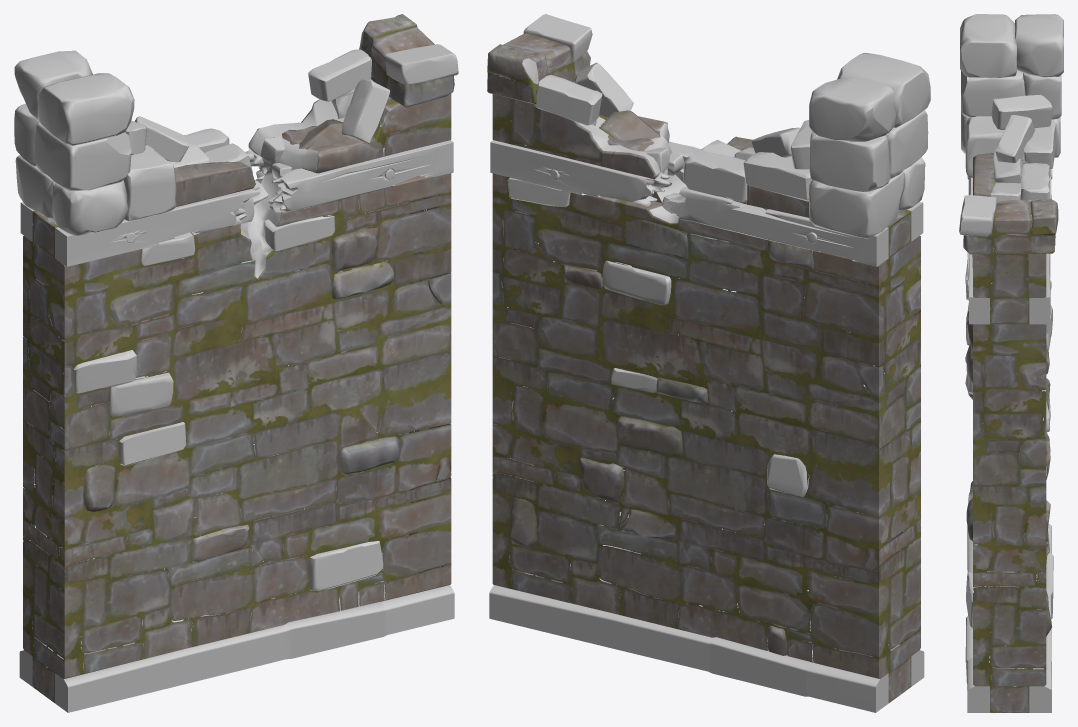
3 renders of one model, left to right at view 1: azimuth 30°, elevation 25°; view 2: azimuth 150°, elevation 25°; view 3: azimuth 270°, elevation 25°, orthographic. The views are drawn at different scales.
Visible parts, largest first — view 1: SM_Castle_Wall_4x6_01_Dmg_v1_LOD0; view 2: SM_Castle_Wall_4x6_01_Dmg_v1_LOD0; view 3: SM_Castle_Wall_4x6_01_Dmg_v1_LOD0.
Part boxes in pixels (x1,y1,x2,y2): SM_Castle_Wall_4x6_01_Dmg_v1_LOD0: [14, 14, 458, 712]; SM_Castle_Wall_4x6_01_Dmg_v1_LOD0: [487, 14, 930, 712]; SM_Castle_Wall_4x6_01_Dmg_v1_LOD0: [959, 14, 1063, 712].
Bounding box in the file's own units: 4.05 × 6.05 × 1.08.
